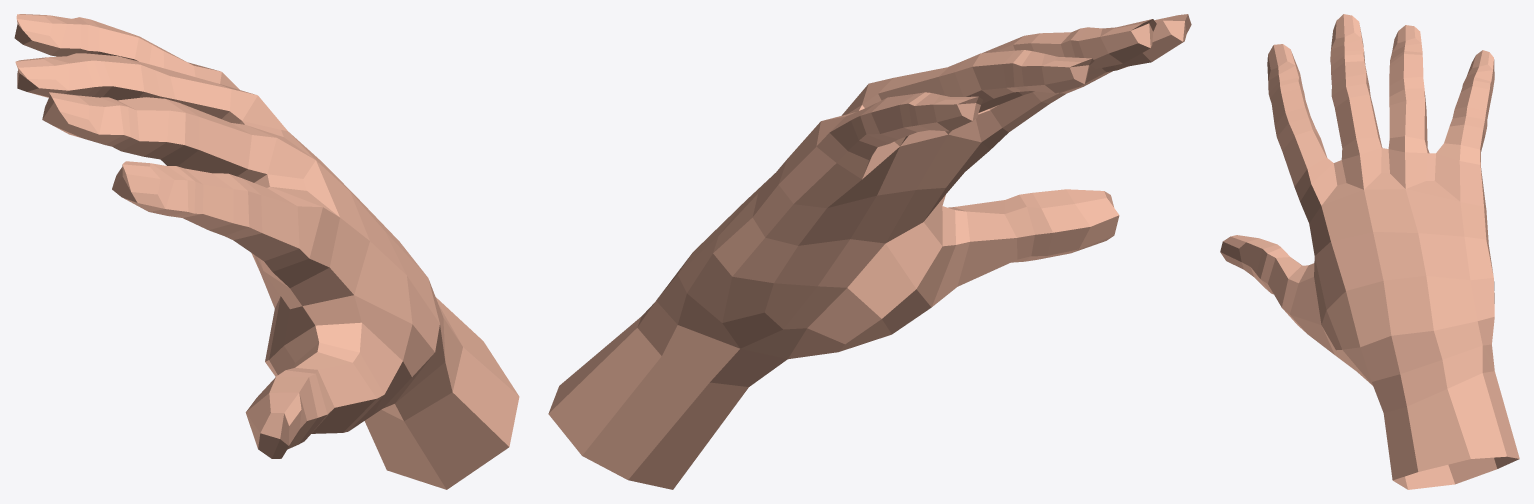
Rendered from hand.gltf.
The picture shows the model from 3 angles, left to right: view 1: azimuth 30°, elevation 25°; view 2: azimuth 150°, elevation 25°; view 3: azimuth 270°, elevation 25°; orthographic projection. The views are drawn at different scales.
Parts seen in each view (by area): view 1: Object_5.001; view 2: Object_5.001; view 3: Object_5.001.
Boxes of the visible parts, box(x1,y1,x2,y2) form: Object_5.001: box(14, 14, 519, 489); Object_5.001: box(548, 14, 1191, 489); Object_5.001: box(1220, 14, 1519, 489).
Size of the model in its own units: 0.7365 by 0.7101 by 0.5666.
